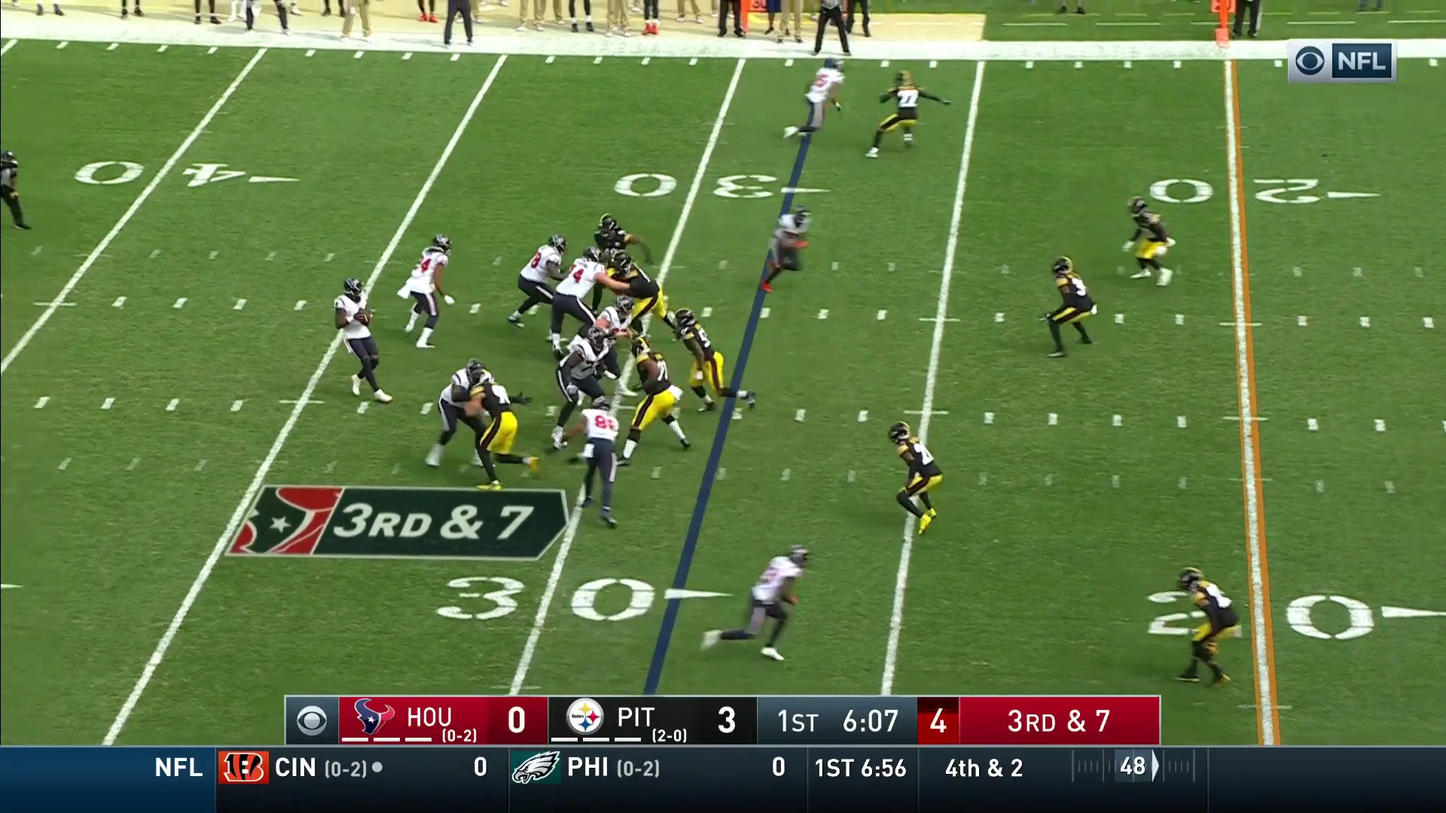Player: (1177, 566, 1239, 684), (746, 546, 807, 659), (336, 278, 387, 399), (399, 234, 450, 347), (602, 239, 661, 334), (1046, 256, 1096, 355), (581, 402, 618, 525), (1125, 194, 1174, 285), (467, 367, 517, 454), (558, 329, 610, 408), (552, 257, 599, 341), (589, 295, 633, 382), (594, 214, 637, 299), (764, 207, 810, 283)
